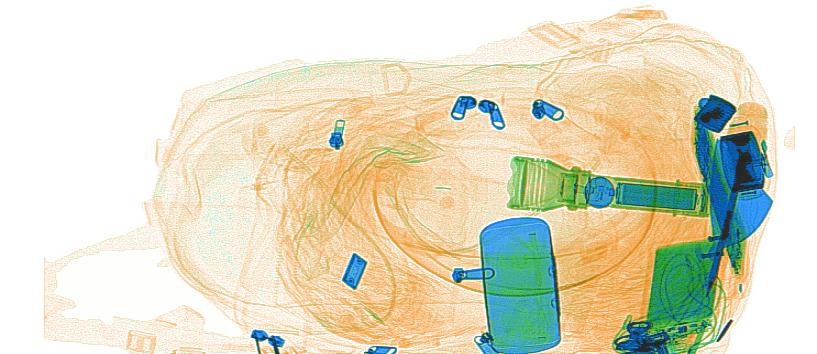battery: (613, 181, 700, 209)
